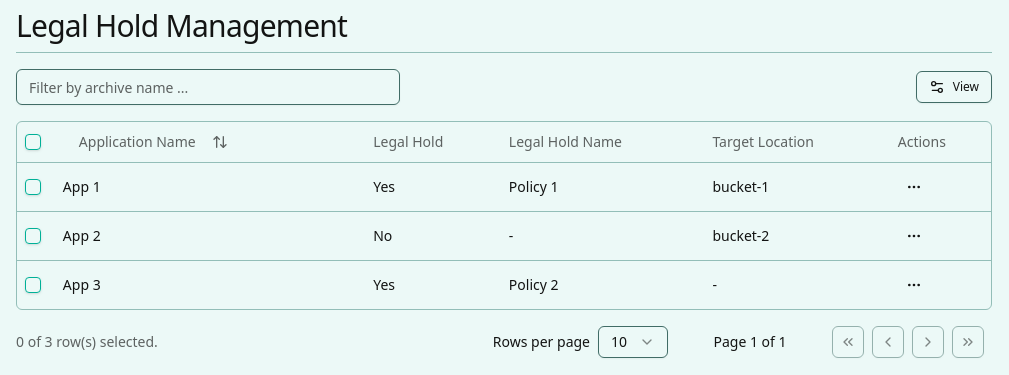
it: Legal Hold Components › Table functionality › should select rows with checkboxes
# Select the first row
Click the checkbox named "Select row" next to "App 1".
click(33, 186)  # box [25, 178, 41, 194]
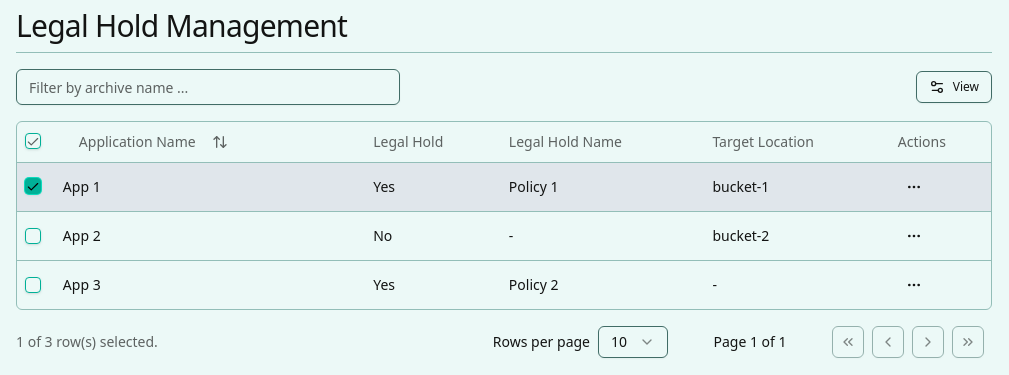
Now the text "1 of 3 row(s) selected." is shown, box [16, 332, 158, 350]
# Select all rows
Click the checkbox named "Select all".
click(33, 141)  # box [25, 133, 41, 149]
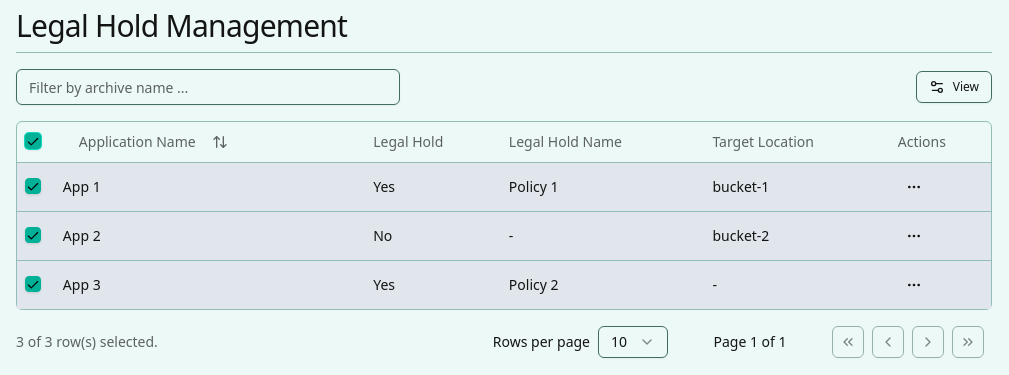
Now the text "3 of 3 row(s) selected." is shown, box [16, 332, 158, 350]
